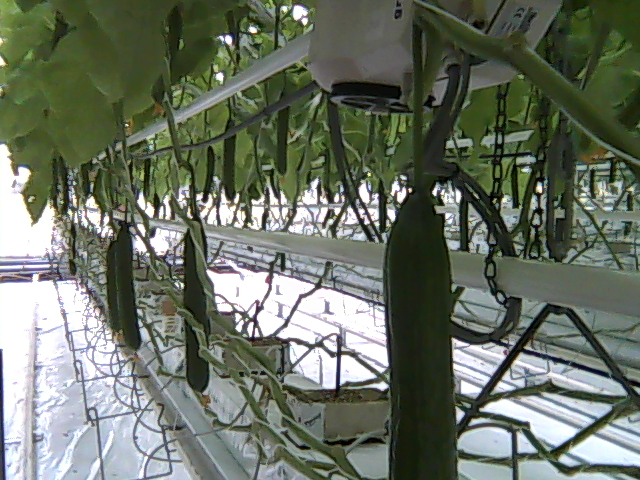concombre: (378, 180, 465, 480)
